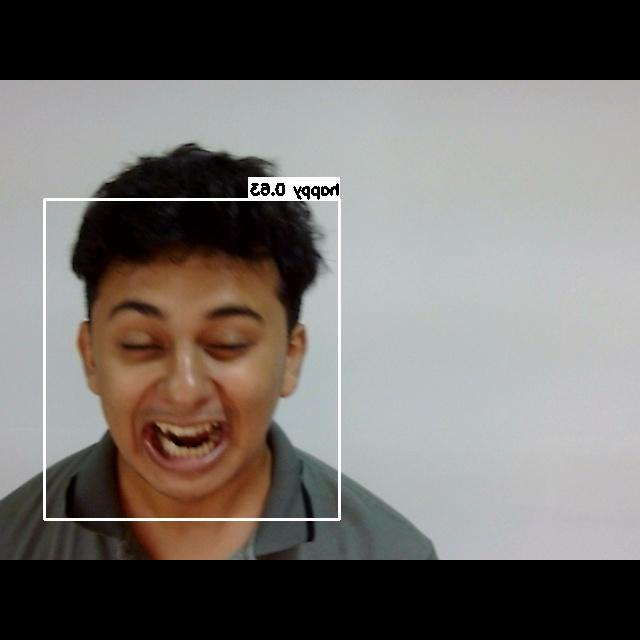Surprised: (89, 269, 279, 481)
